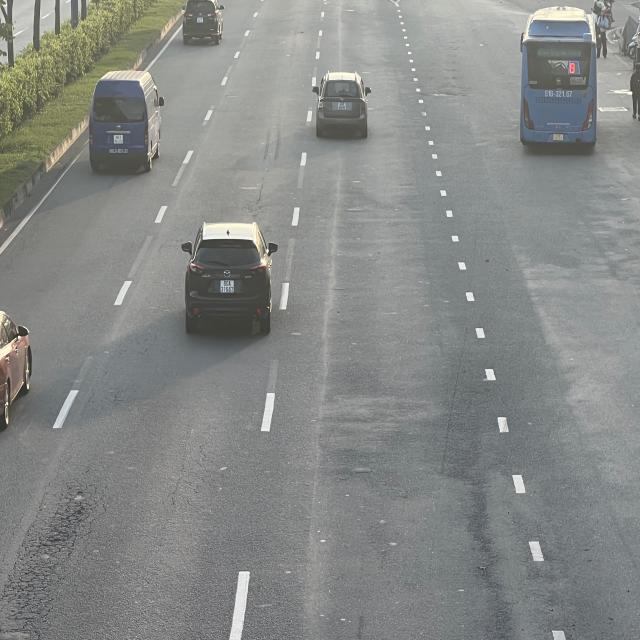car: (182, 224, 278, 335), (312, 74, 372, 139), (0, 308, 32, 428), (181, 0, 224, 45)
coach: (522, 8, 601, 152)
van: (90, 70, 166, 172)
